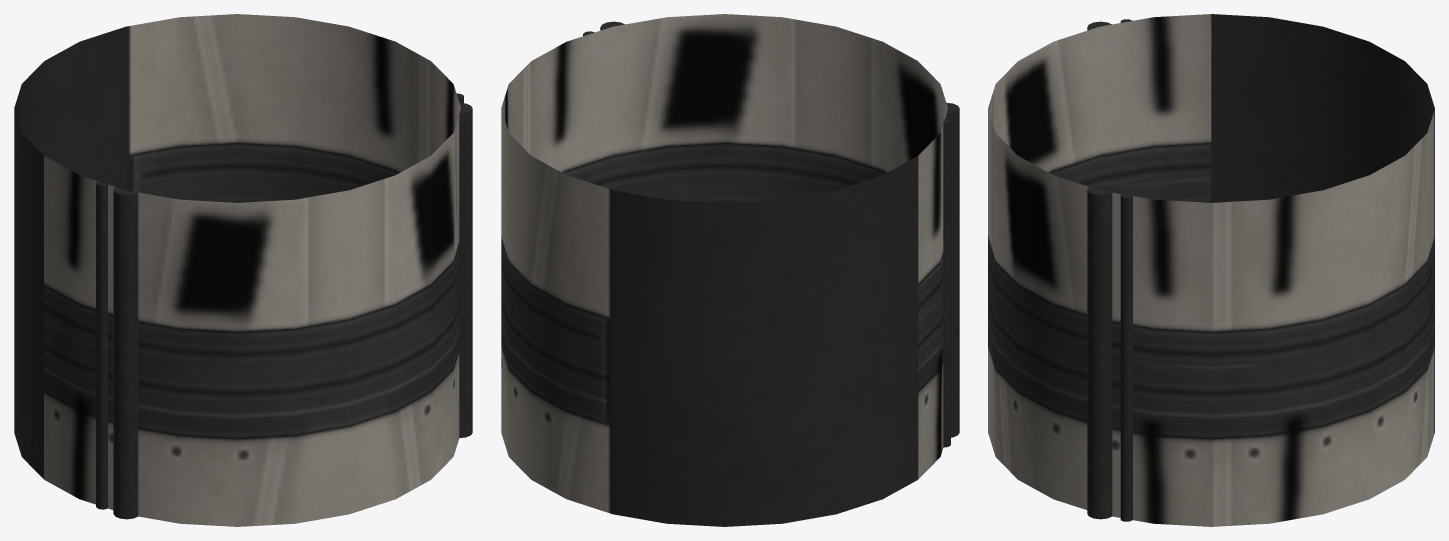
The model's file is hydra_lv_fuel_tank_s2_2.obj.
3 views of the same model, side by side, from view 1: azimuth 30°, elevation 25°; view 2: azimuth 150°, elevation 25°; view 3: azimuth 270°, elevation 25° (orthographic).
Parts seen in each view (by area): view 1: 1; view 2: 1; view 3: 1.
Boxes of the visible parts, x1,y1,x2,y2 form: 1: [14, 14, 472, 526]; 1: [501, 14, 959, 526]; 1: [988, 14, 1434, 526].
Size of the model in its own units: 2.5 by 2 by 2.5.
